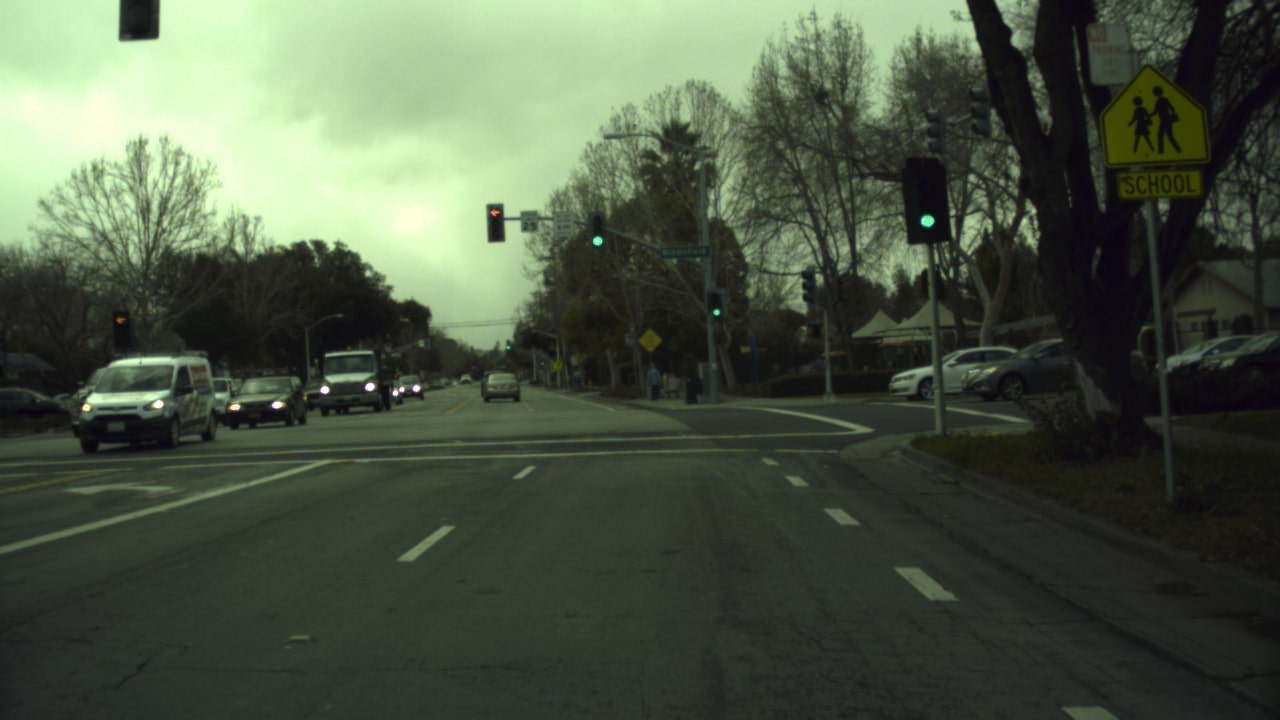signal: (905, 164, 948, 242), (589, 215, 606, 249), (487, 203, 503, 239), (112, 311, 128, 344), (707, 296, 722, 323)
